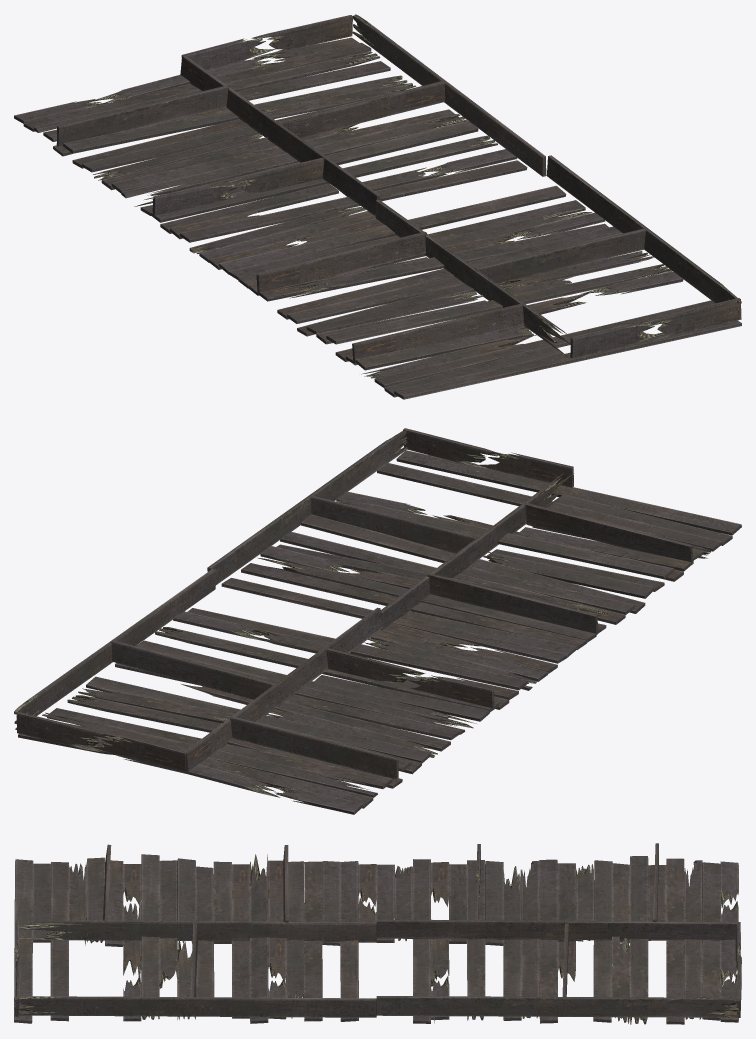
The model's file is SM_CeilingA400x200.FBX.
The picture shows the model from 3 angles, top to bottom: view 1: azimuth 30°, elevation 25°; view 2: azimuth 150°, elevation 25°; view 3: azimuth 270°, elevation 25°; orthographic projection. The views are drawn at different scales.
Parts seen in each view (by area): view 1: SM_CeilingA400x200_LOD0; view 2: SM_CeilingA400x200_LOD0; view 3: SM_CeilingA400x200_LOD0.
Part boxes in pixels (x1,y1,x2,y2): SM_CeilingA400x200_LOD0: [14, 14, 741, 399]; SM_CeilingA400x200_LOD0: [14, 428, 741, 814]; SM_CeilingA400x200_LOD0: [14, 843, 741, 1024].
Size of what is drawn, in the model's own units: 213 by 17.41 by 402.
